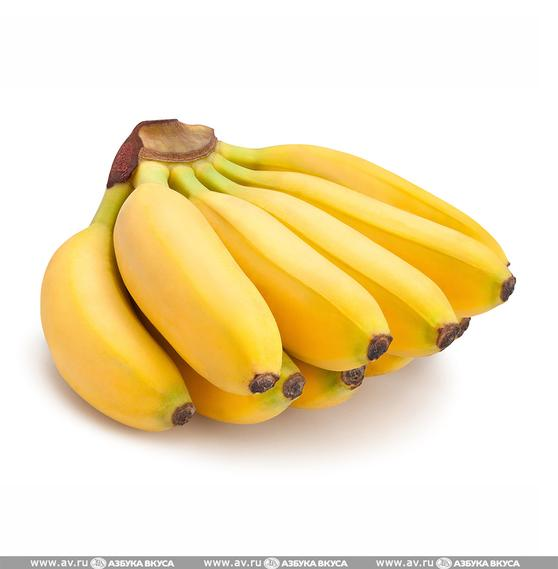banana: (115, 147, 290, 398), (39, 174, 192, 450)
